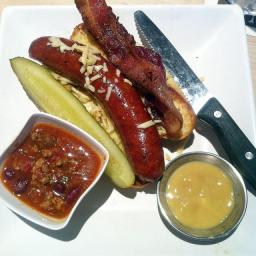hotdog: (81, 62, 129, 123), (28, 36, 90, 80), (124, 119, 164, 183)
